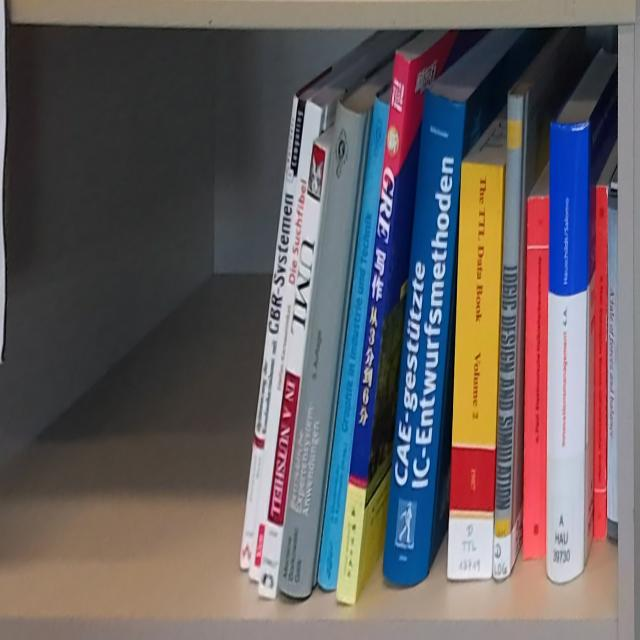Book Spine: (278, 100, 368, 600), (335, 49, 412, 603), (382, 87, 465, 588), (316, 93, 391, 594), (249, 97, 324, 586), (240, 93, 307, 568), (258, 142, 327, 603), (448, 160, 505, 583), (547, 120, 590, 585), (492, 95, 524, 583), (523, 197, 550, 559), (593, 185, 609, 543), (606, 193, 618, 546)
